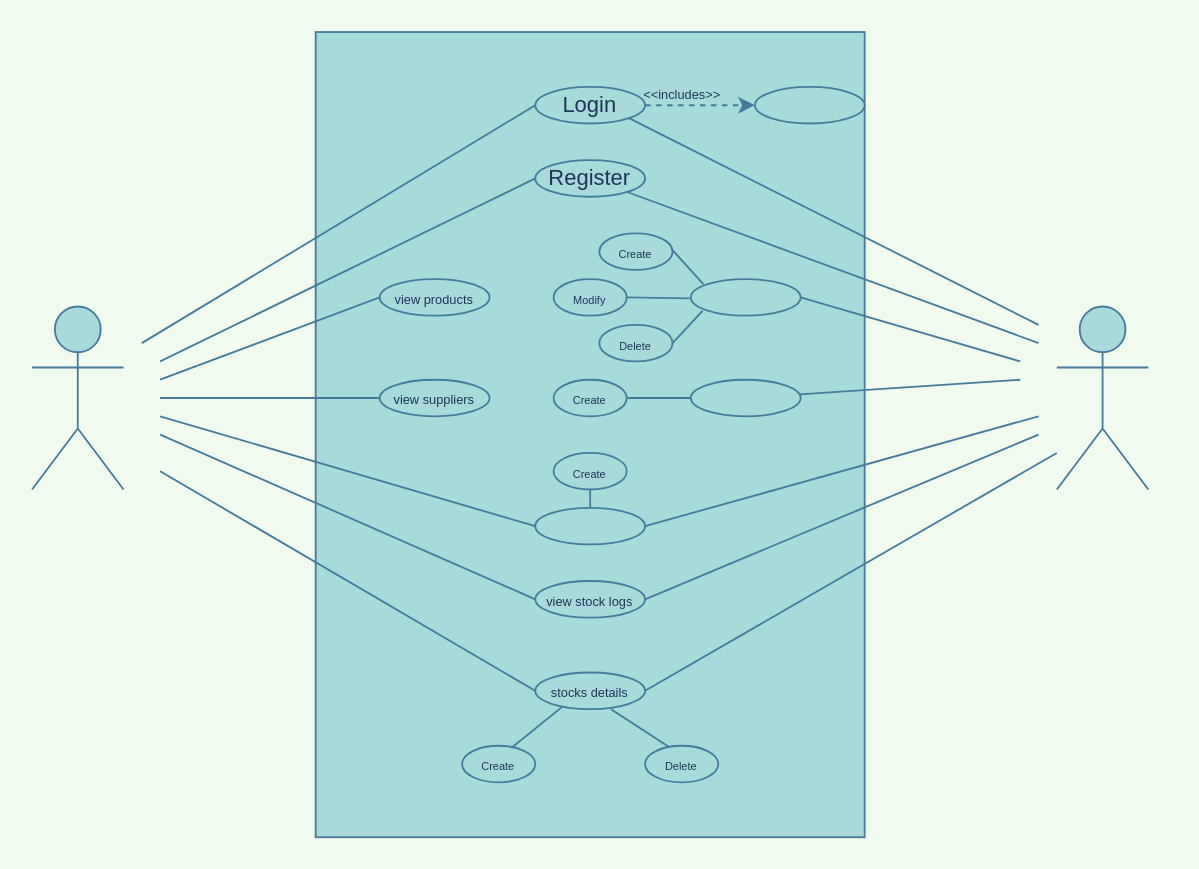
Some shapes in this 1199 by 869 pixel diagram are drawn without their labels. The shapes that lost their labels are listed below. From the top down, each one's centre as x and y in pixels, then its label:
the point at 809,104: Verify Password
the point at 745,296: Products details
the point at 77,397: Staff
the point at 745,397: supplier details
the point at 1101,397: Adiminstrator
the point at 589,525: category details
